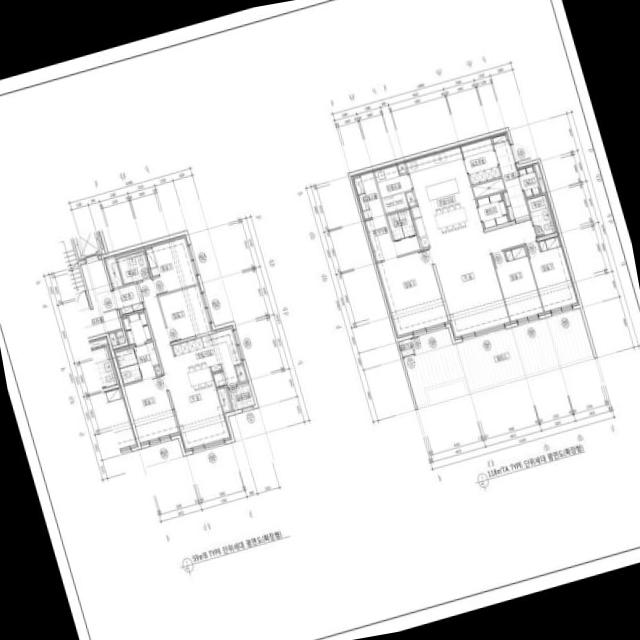background: (0, 0, 640, 640)
space_bedroom: (377, 249, 448, 337), (491, 244, 543, 323), (525, 235, 577, 313), (123, 375, 178, 445), (143, 234, 199, 294), (157, 284, 212, 342)
space_dressroom: (352, 171, 384, 219)
space_elevator: (71, 230, 103, 260)
space_elevator_hall: (79, 257, 120, 337)
space_front: (490, 133, 529, 220), (112, 283, 144, 314)
space_kitchen: (405, 146, 483, 247), (171, 324, 242, 395), (460, 138, 501, 184)
space_living_room: (138, 279, 231, 451), (428, 219, 535, 339)
space_other: (365, 215, 420, 261), (373, 165, 411, 213), (475, 192, 508, 228), (517, 165, 540, 197), (103, 254, 122, 287), (472, 178, 504, 197), (216, 387, 232, 413), (533, 163, 545, 192), (235, 364, 248, 383), (405, 191, 416, 206), (108, 331, 117, 345), (115, 329, 124, 343), (397, 162, 406, 173), (154, 365, 160, 374)
space_outdoor_room: (227, 382, 254, 410), (398, 338, 413, 356)
space_staircase: (60, 239, 90, 310)
space_toilet: (114, 341, 158, 383), (526, 193, 555, 237), (116, 251, 150, 284), (120, 310, 151, 346), (386, 208, 415, 240)
